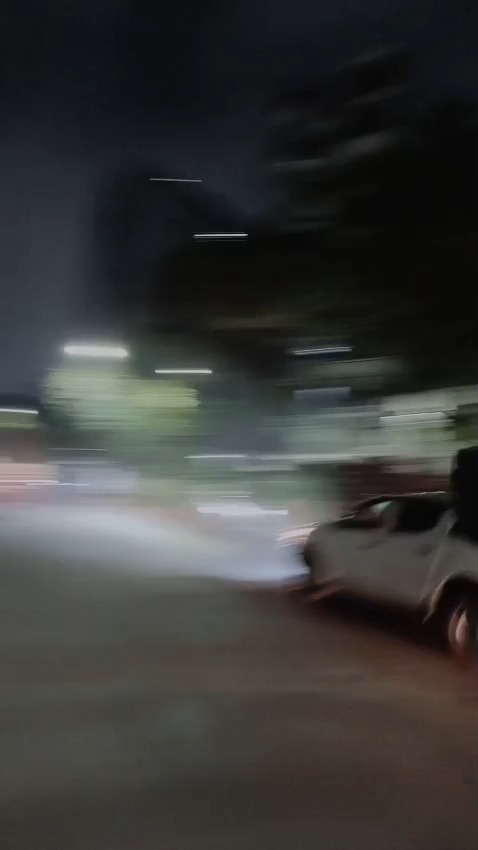private car: (285, 469, 478, 656)
